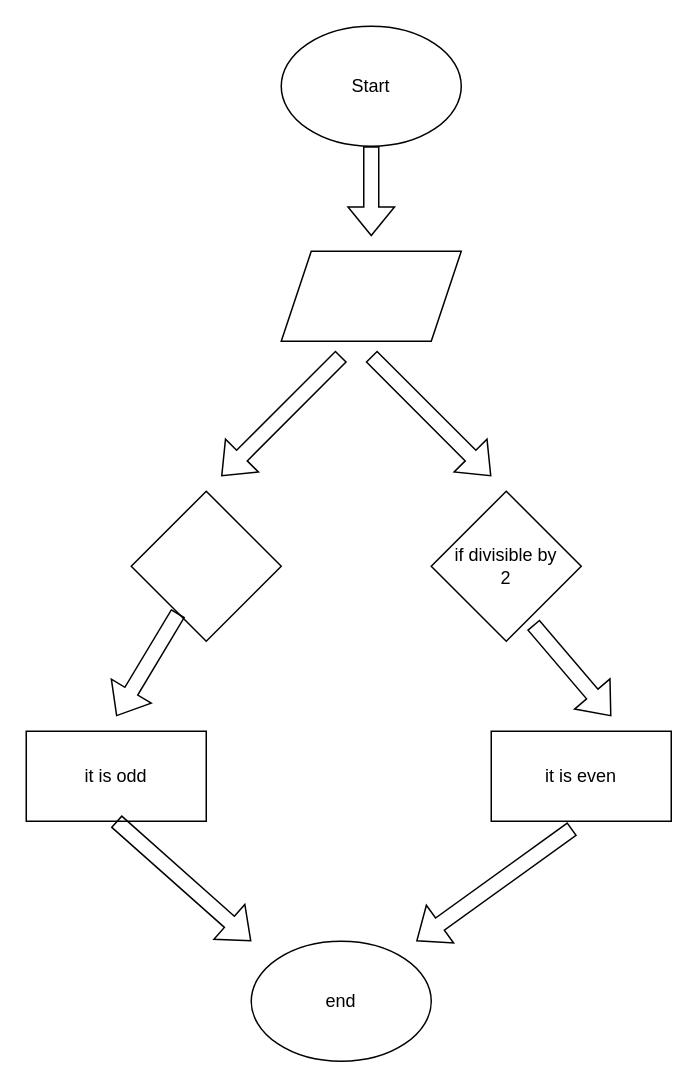
The diagram is 698 pixels wide and 1088 high, and some of its shapes have lost their labels. Here are the shapes that lost their labels. From the top down, the centre of each, then its label:
the point at 370,295: Choose a number
the point at 205,565: if not divisible by 2
